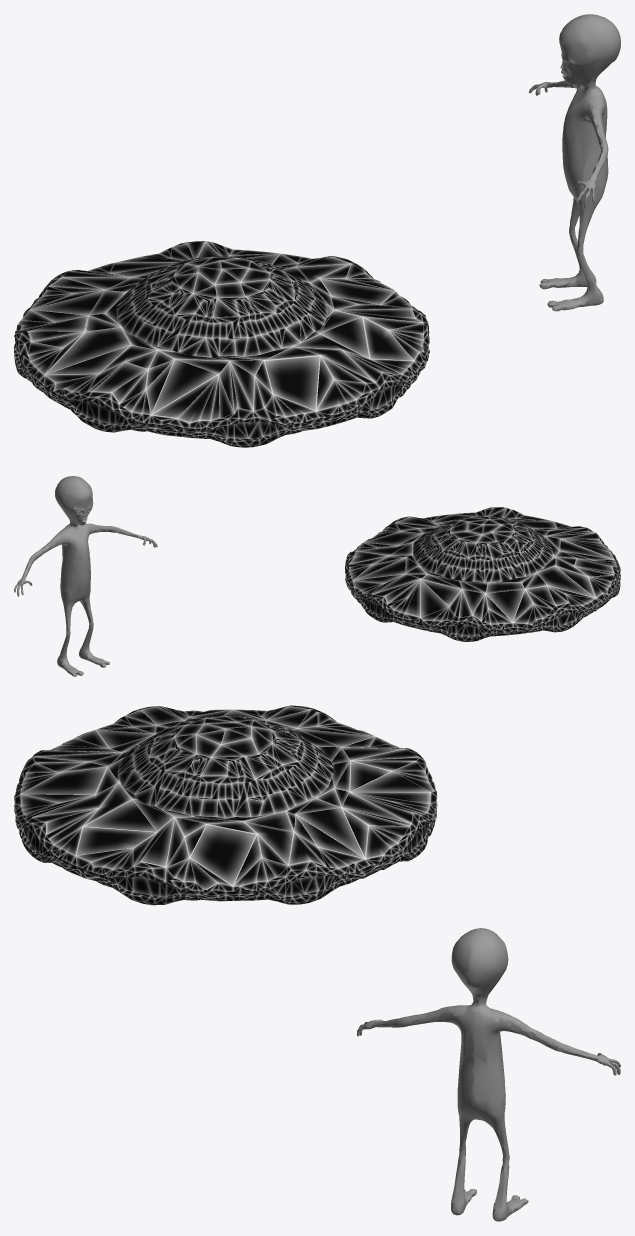
File: frame_058.obj
3 renders of one model, top to bottom at view 1: azimuth 30°, elevation 25°; view 2: azimuth 150°, elevation 25°; view 3: azimuth 270°, elevation 25°, orthographic. The views are drawn at different scales.
Visible parts, largest first — view 1: 13884_UFO_Saucer_v1_l2, 10469_GrayAlien_v01; view 2: 13884_UFO_Saucer_v1_l2, 10469_GrayAlien_v01; view 3: 13884_UFO_Saucer_v1_l2, 10469_GrayAlien_v01.
Boxes of the visible parts, x1,y1,x2,y2 form: 13884_UFO_Saucer_v1_l2: [14, 241, 429, 447]; 10469_GrayAlien_v01: [528, 14, 620, 311]; 13884_UFO_Saucer_v1_l2: [345, 507, 620, 641]; 10469_GrayAlien_v01: [14, 476, 157, 676]; 13884_UFO_Saucer_v1_l2: [14, 705, 437, 905]; 10469_GrayAlien_v01: [357, 928, 620, 1221].
Size of the model in its own units: 24.71 by 9.4 by 18.19.
